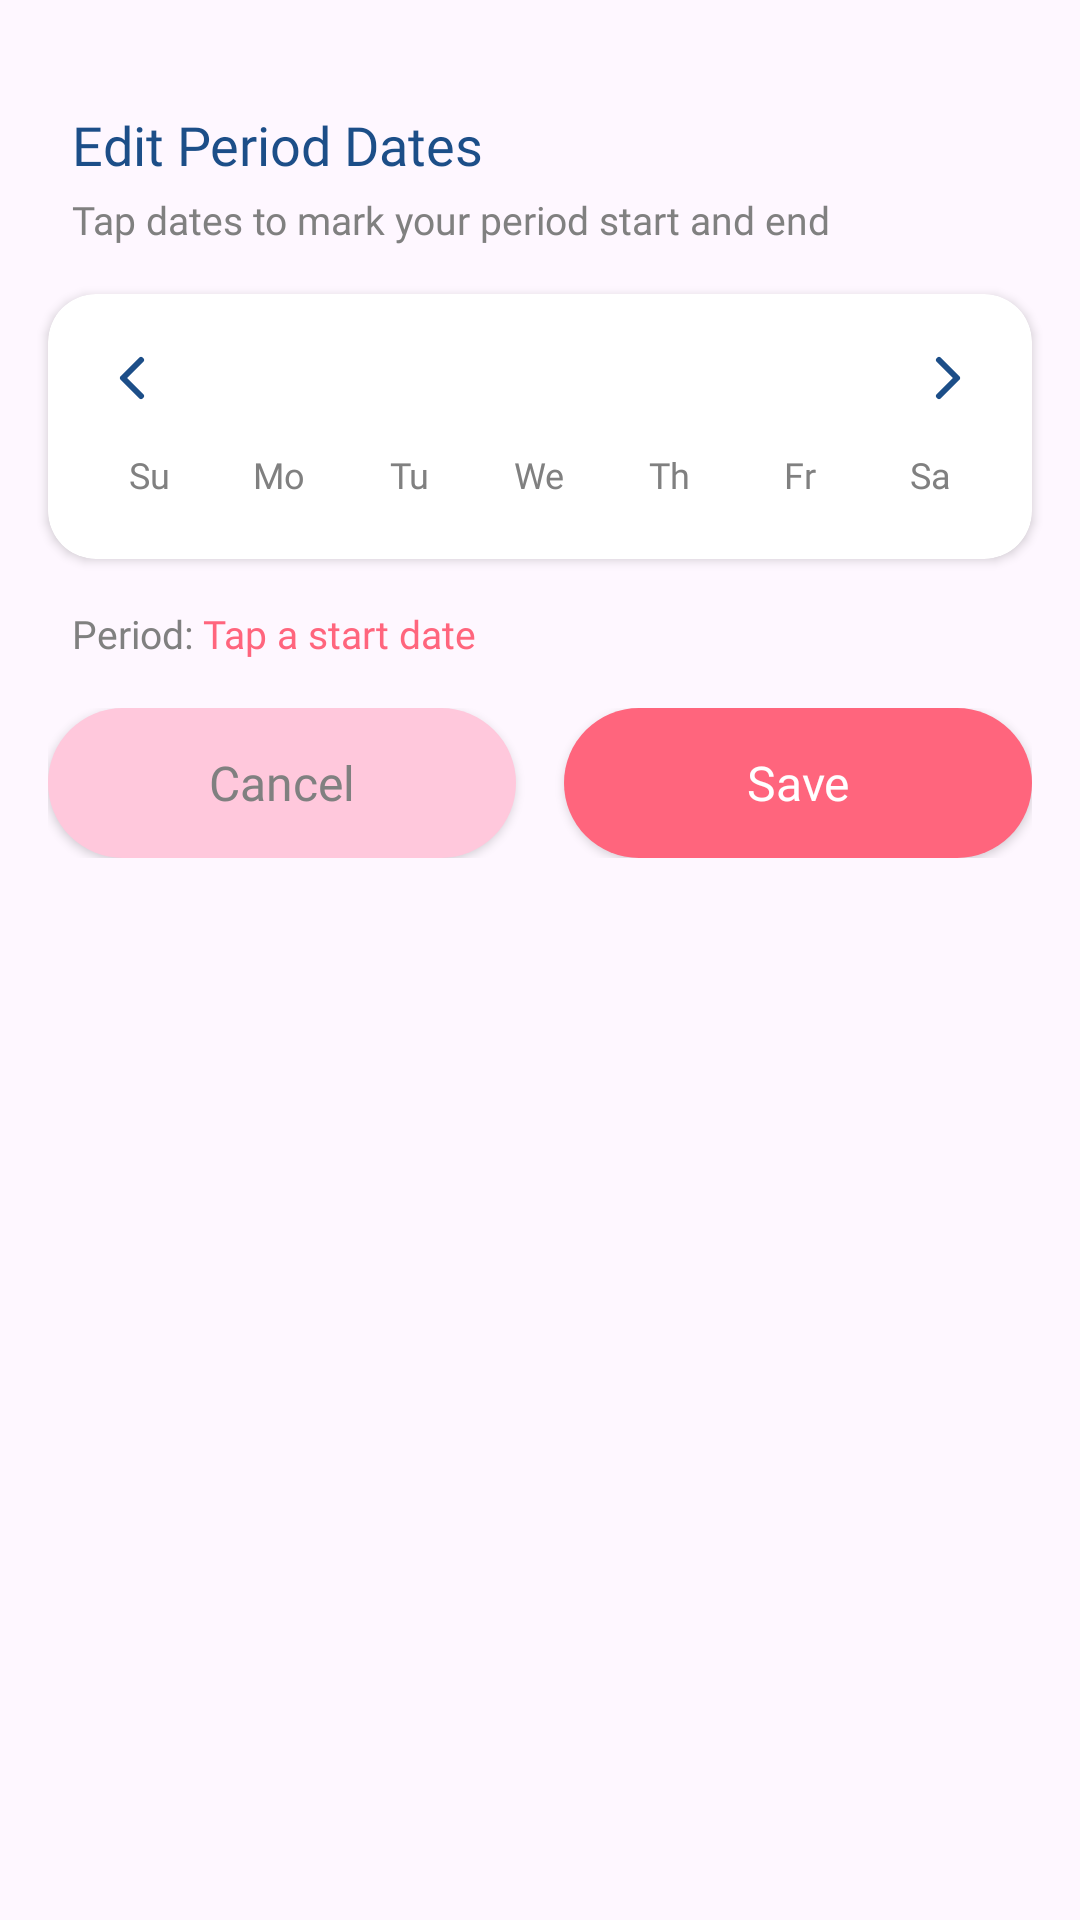

Icon click points for this 1080*1920 phone screenshot, format [x,y]:
Previous: [132,378]
